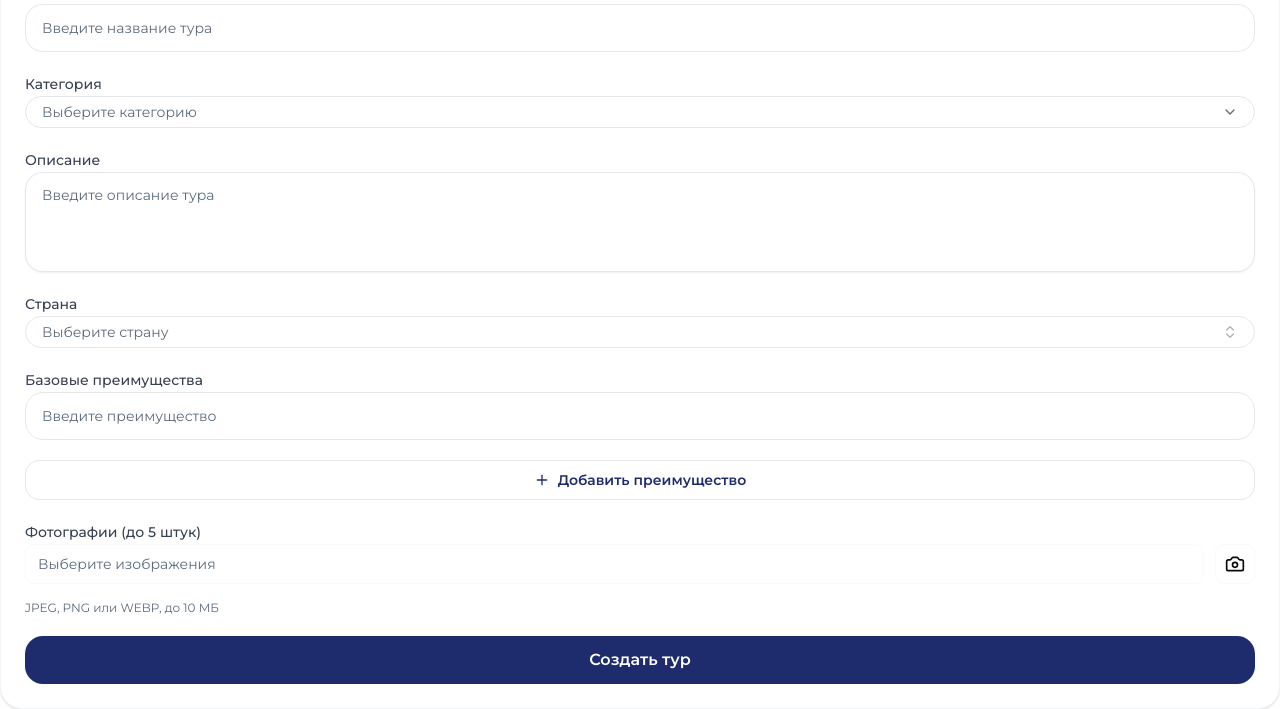
Test: TourForm › требует обязательные поля
(page scrolled)
Click the button "Создать тур" at (640, 660), box x1=25 y1=636 x2=1255 y2=684
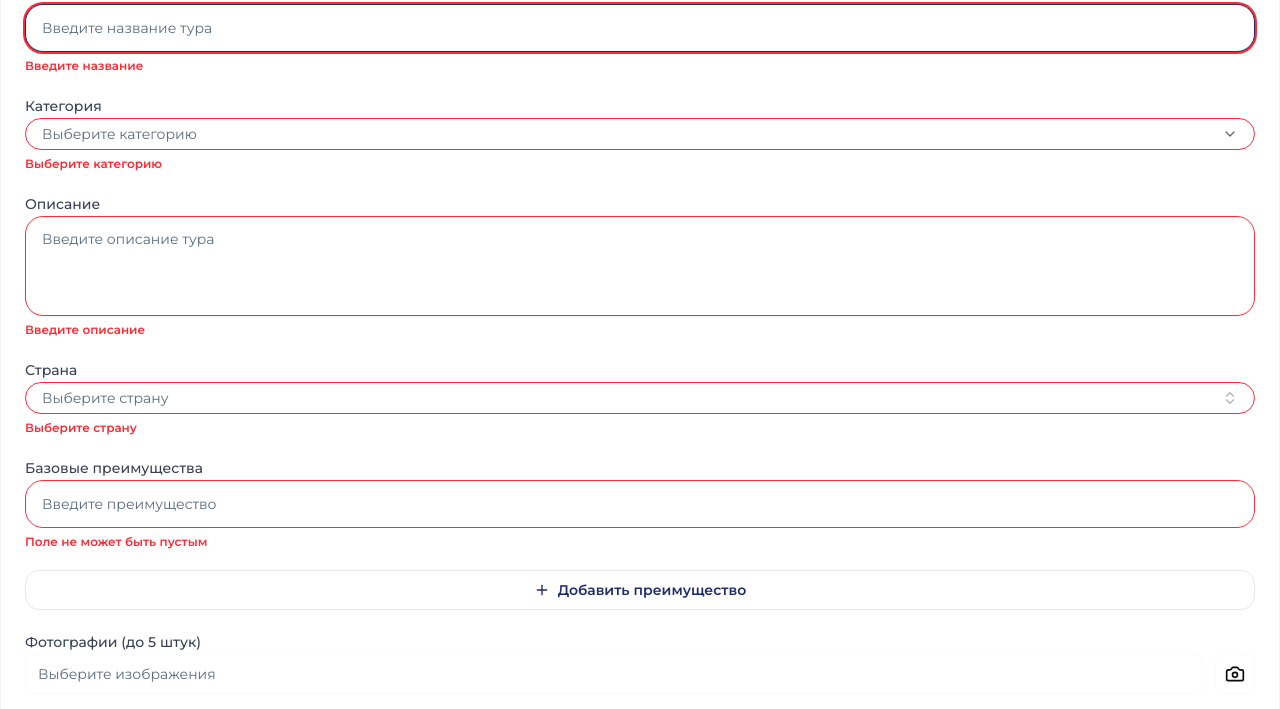
Expected: the 1st text "Выберите категорию" is shown, x1=42 y1=124 x2=197 y2=144
Now the text "Введите название" is shown, box x1=25 y1=58 x2=143 y2=73
Now the text "Введите описание" is shown, box x1=25 y1=322 x2=145 y2=337
